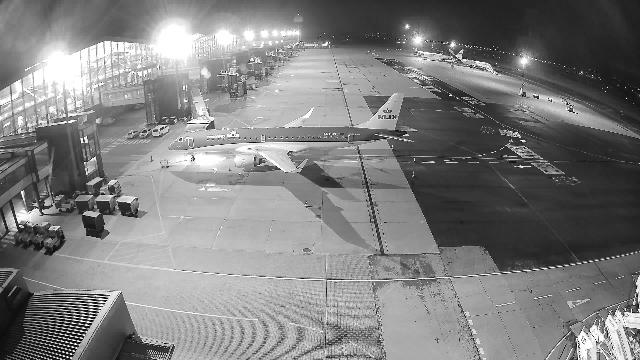Aircraft: (167, 93, 413, 173), (449, 49, 491, 68), (422, 49, 464, 61)
Airport_Tractor: (44, 225, 65, 251), (32, 221, 50, 247), (54, 195, 76, 212), (22, 222, 38, 244), (100, 180, 122, 195), (15, 221, 29, 243)
Baggage_Trolley: (82, 210, 105, 230), (116, 195, 140, 214), (95, 195, 117, 210), (74, 195, 95, 210), (86, 177, 104, 193)
